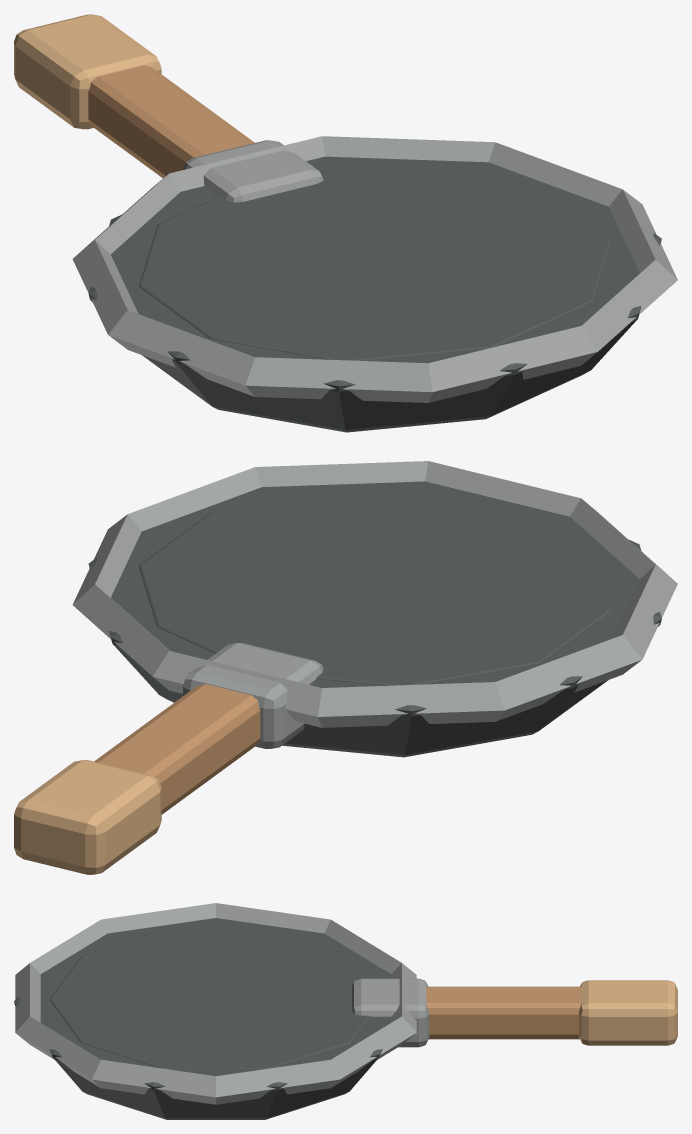
File: pan.glb
3 views of the same model, one above another, from view 1: azimuth 30°, elevation 25°; view 2: azimuth 150°, elevation 25°; view 3: azimuth 270°, elevation 25° (orthographic). The views are drawn at different scales.
Visible parts, largest first — view 1: panInside, panRim, panBody, panHandle, panGripEnd, panCollar; view 2: panInside, panRim, panBody, panGripEnd, panHandle, panCollar; view 3: panInside, panRim, panBody, panHandle, panGripEnd, panCollar.
Boxes of the visible parts, <box> form: panInside: <box>139,164,611,360</box>; panRim: <box>72,136,677,402</box>; panBody: <box>88,156,661,432</box>; panHandle: <box>88,65,254,178</box>; panGripEnd: <box>14,14,161,129</box>; panCollar: <box>183,140,323,202</box>; panInside: <box>139,489,611,685</box>; panRim: <box>72,461,677,727</box>; panBody: <box>88,481,661,757</box>; panGripEnd: <box>14,760,161,874</box>; panHandle: <box>94,684,260,814</box>; panCollar: <box>183,643,323,748</box>; panInside: <box>49,929,369,1069</box>; panRim: <box>15,903,416,1104</box>; panBody: <box>14,918,391,1119</box>; panHandle: <box>426,986,581,1039</box>; panGripEnd: <box>578,980,677,1045</box>; panCollar: <box>352,978,429,1047</box>.
Size of the model in its own units: 0.6 by 0.1 by 0.9.
